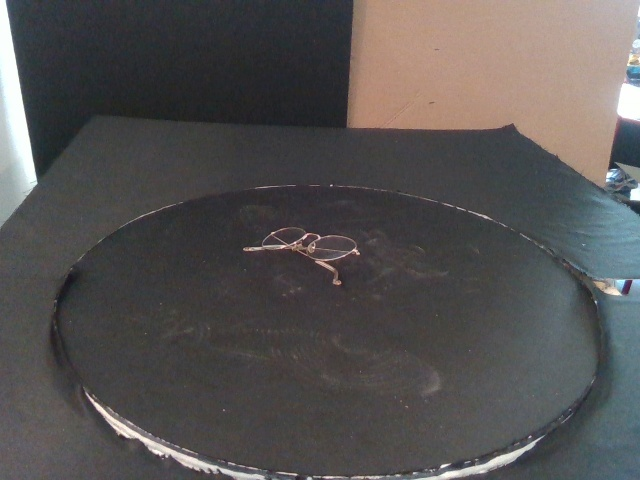glasses: (239, 226, 361, 286)
